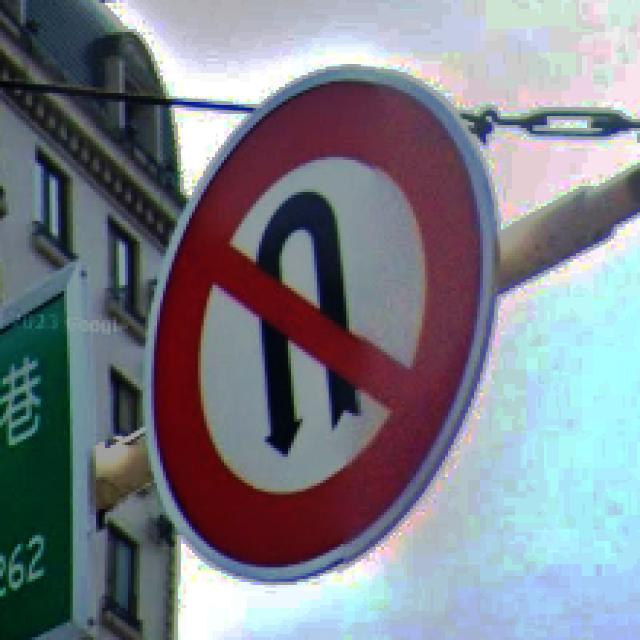nouturn: (151, 84, 477, 567)
